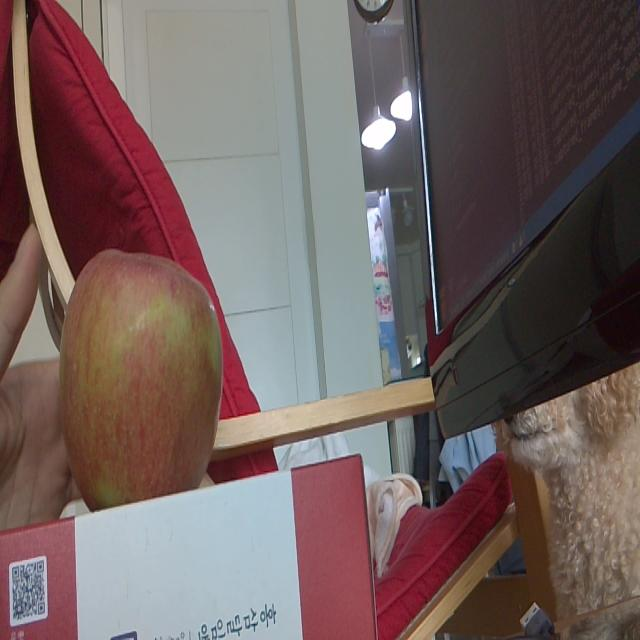apple: (58, 248, 224, 514)
